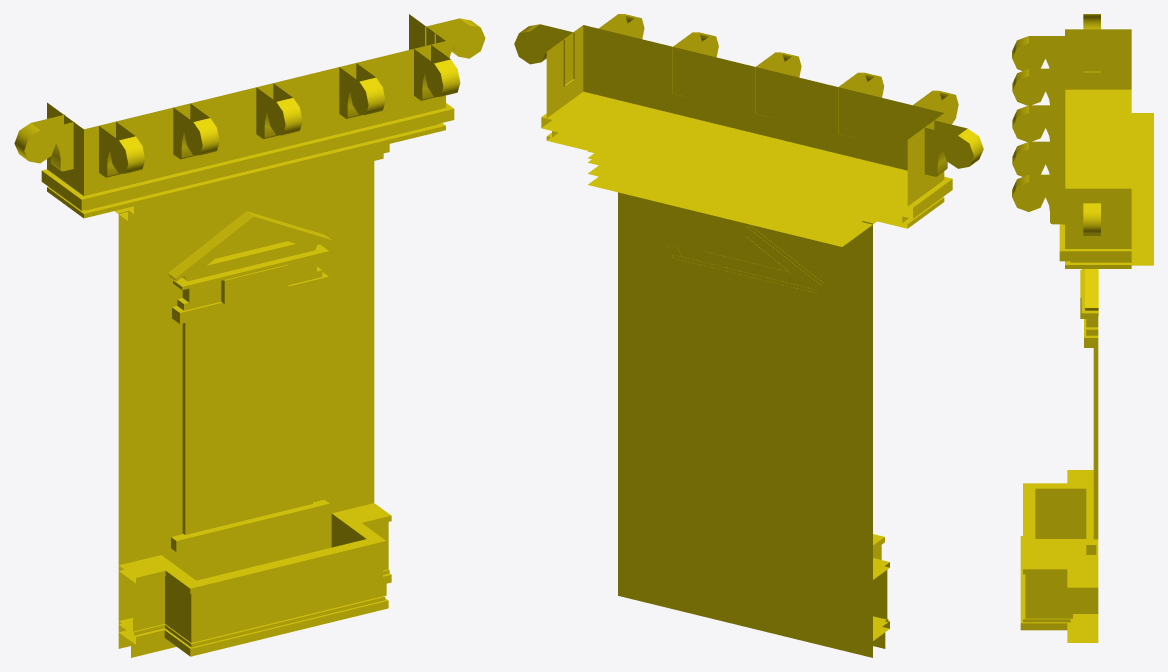
File: SM_building_3F.fbx
The picture shows the model from 3 angles, left to right: view 1: azimuth 30°, elevation 25°; view 2: azimuth 150°, elevation 25°; view 3: azimuth 270°, elevation 25°; orthographic projection. The views are drawn at different scales.
Visible parts, largest first — view 1: 3F_main_low.001, 3F_roofyong_low.001, 3F_bot_low.001, 3F_roofyong_side_low.001, 3F_roofyong_side_low.002; view 2: 3F_main_low.001, 3F_roofyong_low.001, 3F_roofyong_side_low.002, 3F_roofyong_side_low.001, 3F_bot_low.001; view 3: 3F_roofyong_low.001, 3F_bot_low.001, 3F_roofyong_side_low.002, 3F_roofyong_side_low.001, 3F_main_low.001.
Boxes of the visible parts, x1=… form: 3F_main_low.001: x1=114, y1=144, x2=389, y2=648; 3F_roofyong_low.001: x1=134, y1=54, x2=395, y2=205; 3F_bot_low.001: x1=119, y1=503, x2=391, y2=657; 3F_roofyong_side_low.001: x1=14, y1=102, x2=144, y2=218; 3F_roofyong_side_low.002: x1=389, y1=14, x2=485, y2=142; 3F_main_low.001: x1=588, y1=165, x2=876, y2=657; 3F_roofyong_low.001: x1=588, y1=32, x2=891, y2=224; 3F_roofyong_side_low.002: x1=514, y1=14, x2=644, y2=150; 3F_roofyong_side_low.001: x1=855, y1=90, x2=983, y2=228; 3F_bot_low.001: x1=873, y1=534, x2=889, y2=648; 3F_roofyong_low.001: x1=1012, y1=68, x2=1153, y2=245; 3F_bot_low.001: x1=1020, y1=470, x2=1098, y2=642; 3F_roofyong_side_low.002: x1=1012, y1=174, x2=1131, y2=268; 3F_roofyong_side_low.001: x1=1012, y1=14, x2=1131, y2=112; 3F_main_low.001: x1=1080, y1=245, x2=1153, y2=554.
Bounding box in the file's own units: 433 × 490 × 128.
